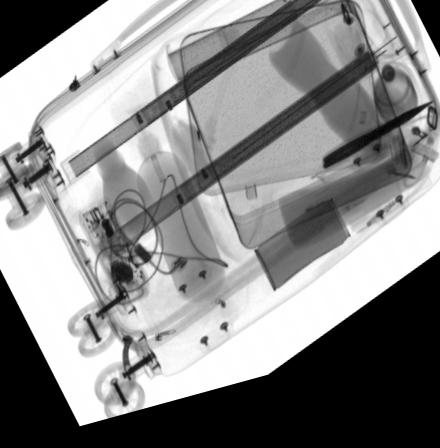Pliers: (319, 125, 432, 185)
